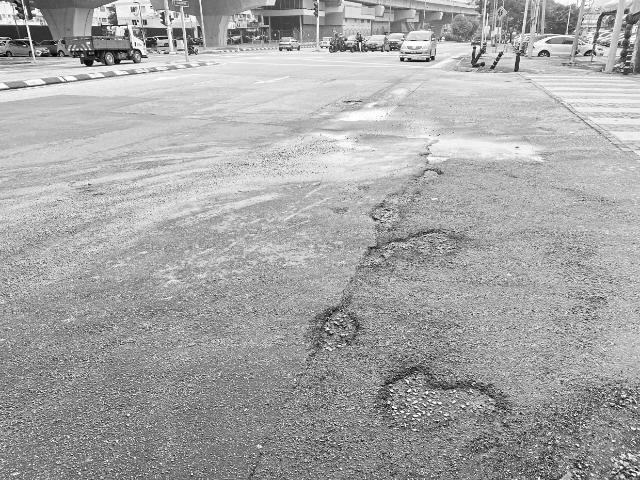Pothole: (377, 362, 498, 434), (360, 225, 464, 265), (307, 307, 361, 357), (371, 188, 419, 228), (417, 162, 445, 184), (342, 98, 362, 106)
